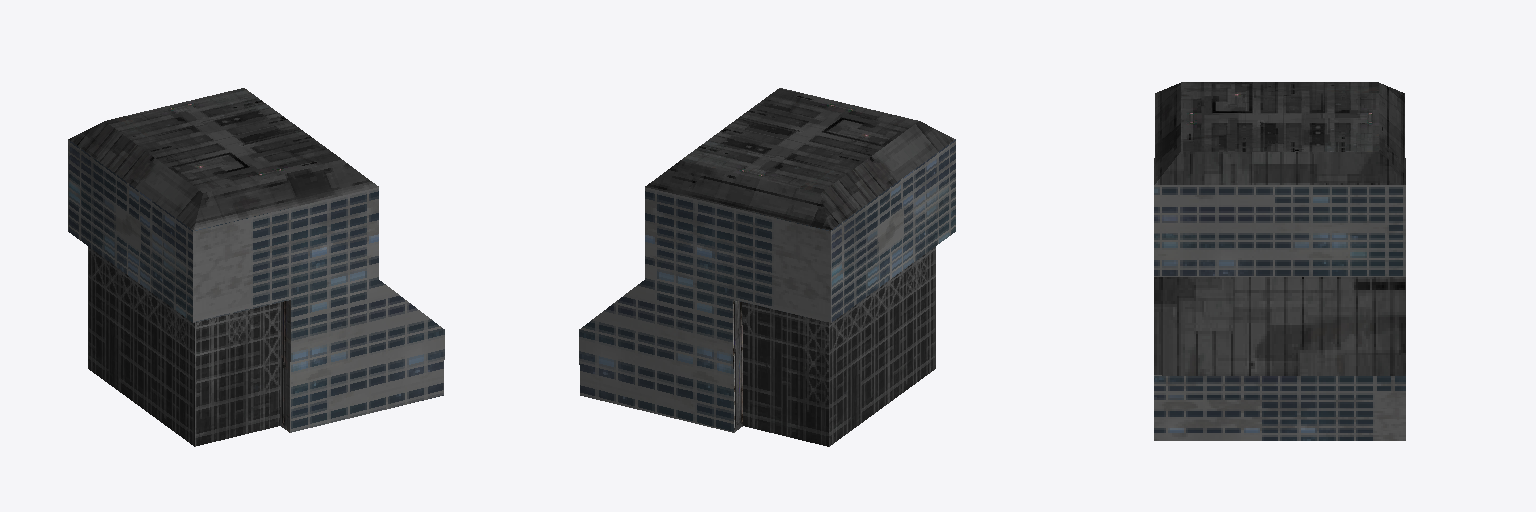
3 renders of one model, left to right at view 1: azimuth 30°, elevation 25°; view 2: azimuth 150°, elevation 25°; view 3: azimuth 270°, elevation 25°, orthographic.
Parts seen in each view (by area): view 1: building_27; view 2: building_27; view 3: building_27.
Boxes of the visible parts, <box> form: building_27: <box>68,88,444,446</box>; building_27: <box>579,88,955,446</box>; building_27: <box>1154,82,1405,440</box>.
Size of the model in its own units: 70.49 by 66.3 by 61.23.
Materials: 1 (1 with a texture image).